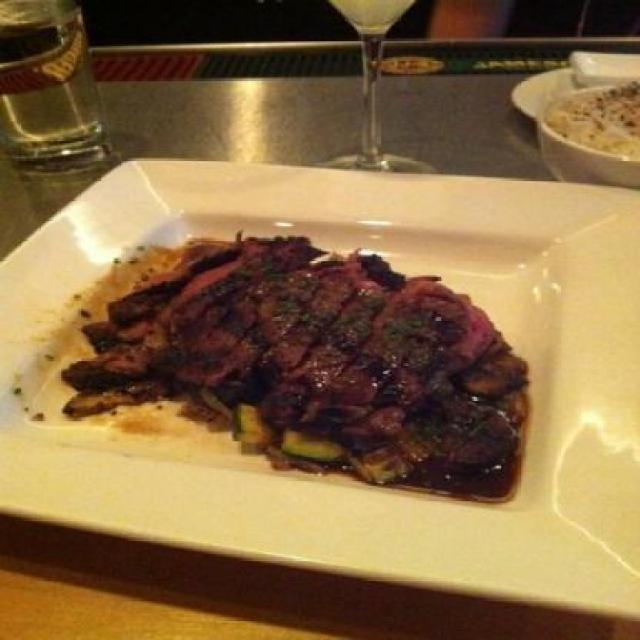Steak: (74, 236, 540, 512)
